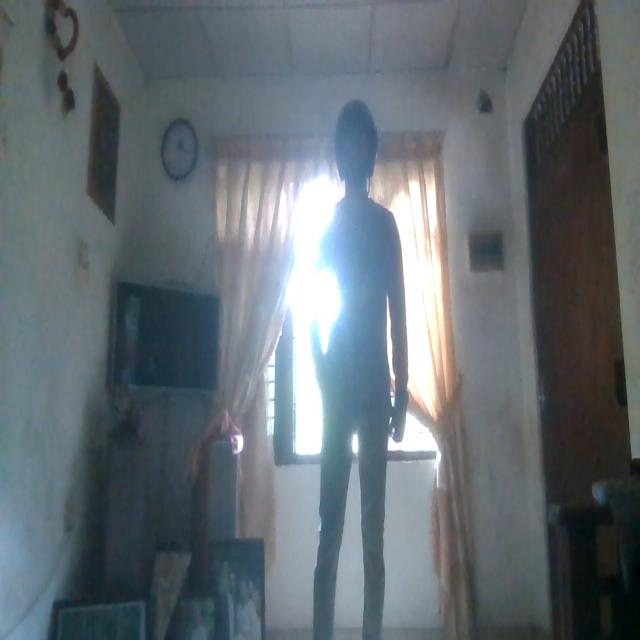Helmet_Wearer: (332, 96, 388, 203)
Person: (316, 104, 412, 640)
